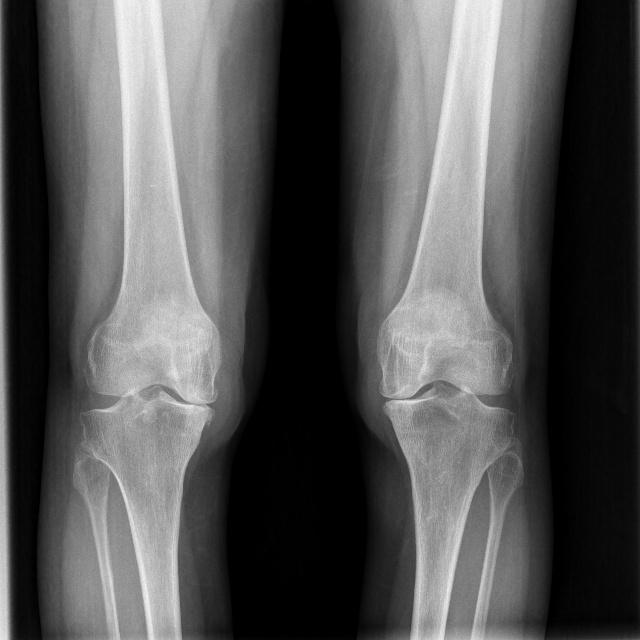Knee: (78, 325, 223, 468), (372, 320, 515, 461)
